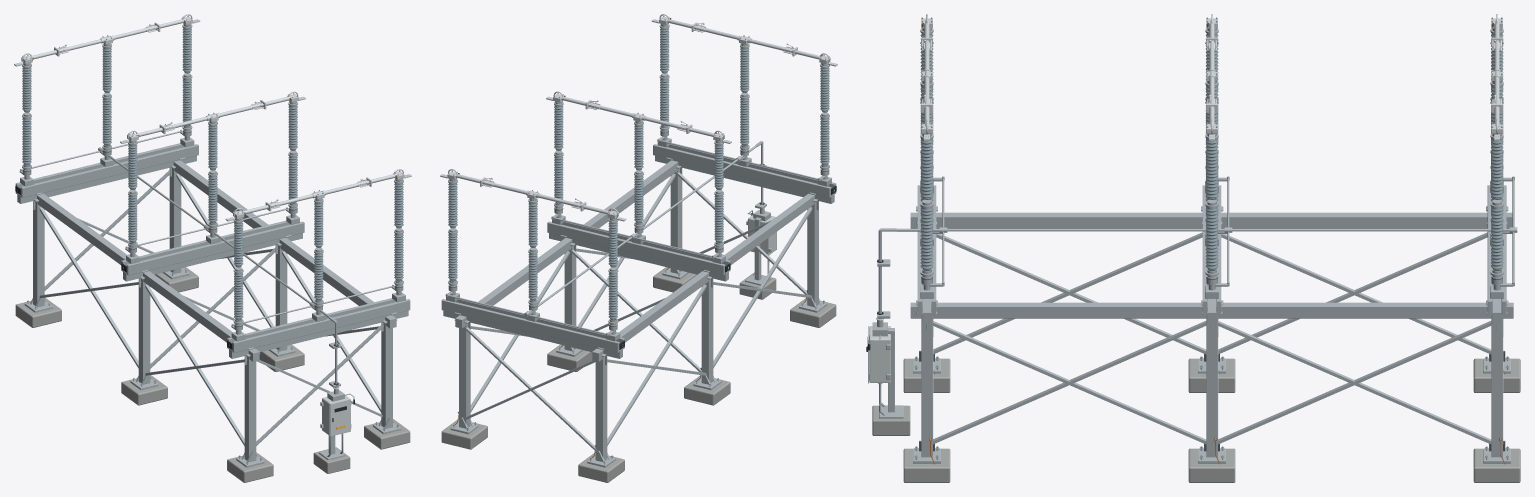
File: horizontal-disconnect-assembled.glb
The picture shows the model from 3 angles, left to right: view 1: azimuth 30°, elevation 25°; view 2: azimuth 150°, elevation 25°; view 3: azimuth 270°, elevation 25°; orthographic projection. The views are drawn at different scales.
Parts seen in each view (by area): view 1: Object100535, Object100536, Object100587, Object100030, Object100259, Object100573, Object100016, Object100574, Object100245, Object100589, Object100032, Object100261 (+33 smaller); view 2: Object100535, Object100536, Object100260, Object100031, Object100588, Object100245, Object100016, Object100246, Object100573, Object100261, Object100032, Object100589 (+33 smaller); view 3: Object100536, Object100535, Object100884, Object100246, Object100017, Object100574, Object100543, Object100541, Object100544, Object100542, Object100539, Object100540 (+16 smaller).
Boxes of the visible parts, left/top/right/bottom form: Object100535: left=37, top=193, right=259, bottom=361; Object100536: left=173, top=160, right=396, bottom=328; Object100587: left=232, top=299, right=410, bottom=352; Object100030: left=126, top=221, right=304, bottom=275; Object100259: left=20, top=144, right=198, bottom=197; Object100573: left=244, top=356, right=256, bottom=461; Object100016: left=138, top=279, right=150, bottom=384; Object100574: left=381, top=323, right=392, bottom=428; Object100245: left=33, top=202, right=44, bottom=307; Object100589: left=229, top=310, right=408, bottom=358; Object100032: left=123, top=233, right=302, bottom=281; Object100261: left=17, top=155, right=196, bottom=203; Object100535: left=592, top=193, right=814, bottom=361; Object100536: left=455, top=160, right=678, bottom=328; Object100260: left=441, top=299, right=619, bottom=352; Object100031: left=547, top=221, right=725, bottom=275; Object100588: left=653, top=144, right=831, bottom=197; Object100245: left=595, top=356, right=607, bottom=461; Object100016: left=701, top=279, right=713, bottom=384; Object100246: left=459, top=323, right=470, bottom=428; Object100573: left=807, top=202, right=818, bottom=307; Object100261: left=443, top=310, right=622, bottom=358; Object100032: left=549, top=233, right=728, bottom=281; Object100589: left=655, top=155, right=834, bottom=203; Object100536: left=910, top=302, right=1513, bottom=318; Object100535: left=910, top=212, right=1512, bottom=228; Object100884: left=947, top=228, right=1509, bottom=231; Object100246: left=1491, top=315, right=1502, bottom=457; Object100017: left=1206, top=315, right=1217, bottom=457; Object100574: left=921, top=315, right=932, bottom=457; Object100543: left=1218, top=321, right=1491, bottom=444; Object100541: left=933, top=321, right=1206, bottom=444; Object100544: left=1218, top=320, right=1491, bottom=444; Object100542: left=933, top=321, right=1206, bottom=444; Object100539: left=1218, top=232, right=1487, bottom=354; Object100540: left=1221, top=234, right=1491, bottom=354.
Bounding box in the file's own units: 4.9 × 6.82 × 11.19.
